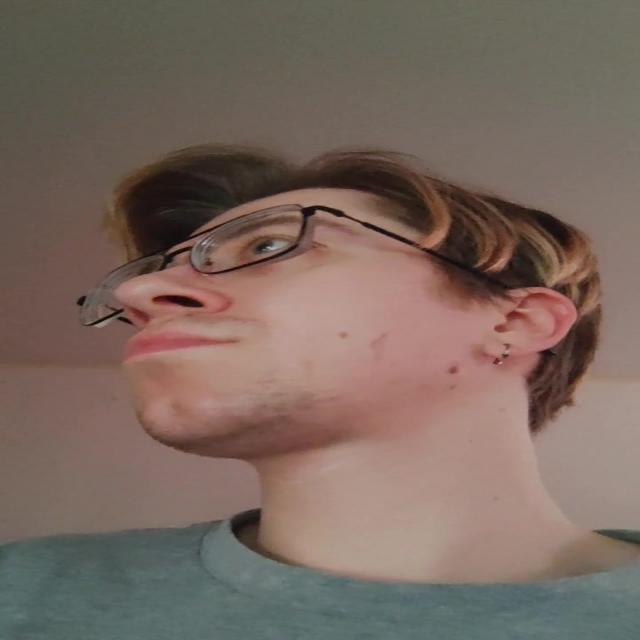earlobe: (482, 288, 579, 360)
